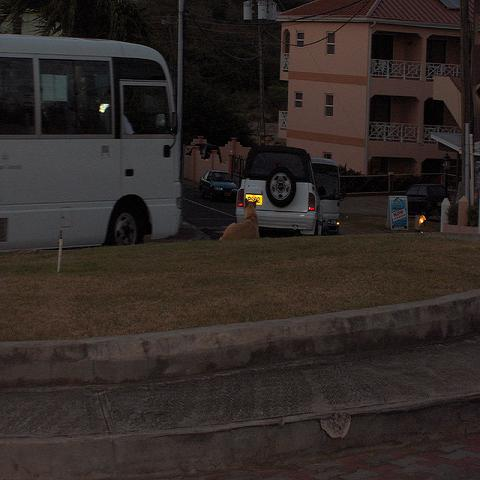bus: (1, 36, 184, 251), (312, 156, 340, 228)
car: (403, 183, 451, 218), (199, 169, 239, 203)
truck: (235, 146, 322, 235), (310, 157, 340, 235)
